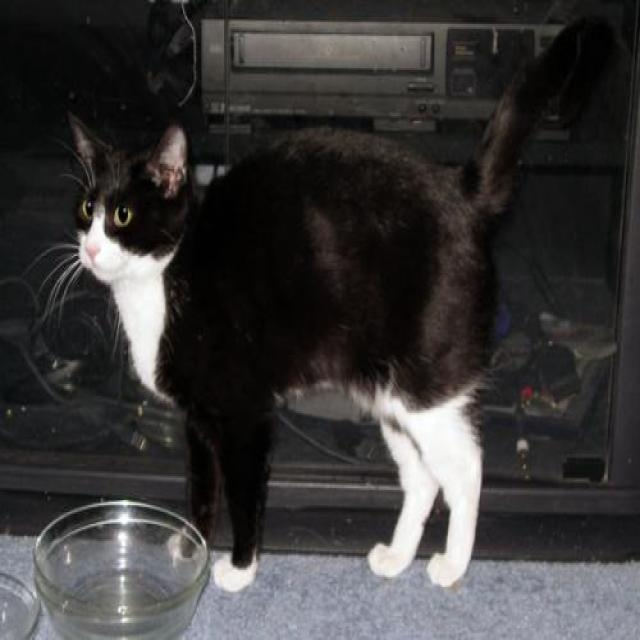Cats: (28, 12, 613, 592)
